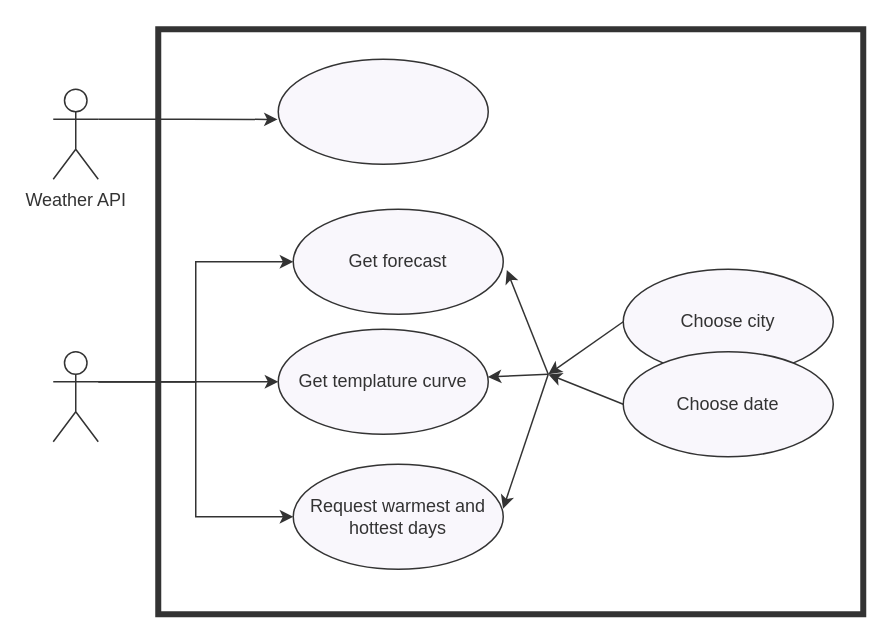
The diagram is 893 pixels wide and 642 high, and some of its shapes have lost their labels. Here are the shapes that lost their labels. From the top down, the box of each, then its label:
(277, 58, 488, 164): Build and return a response
(52, 350, 98, 442): User
